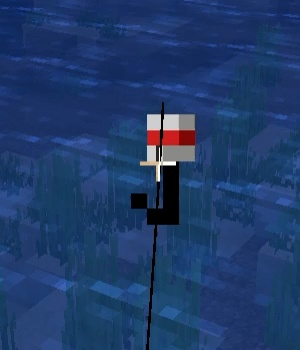up: (141, 104, 195, 235)
